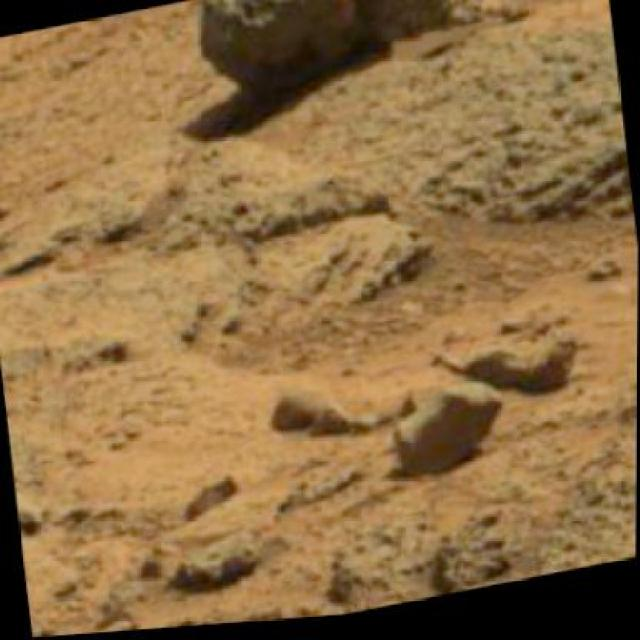rock: (185, 0, 466, 103), (384, 379, 508, 481)
